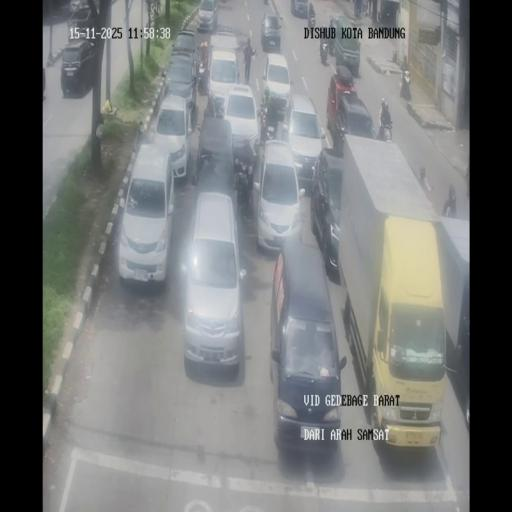3: (337, 138, 462, 448), (66, 3, 95, 40), (380, 1, 400, 26)
car: (268, 237, 342, 451), (181, 189, 246, 370), (118, 142, 175, 286), (313, 148, 344, 278), (283, 94, 324, 186), (220, 83, 260, 161), (331, 88, 376, 154), (162, 53, 198, 122), (61, 38, 97, 98), (261, 51, 292, 118), (208, 32, 241, 90), (332, 15, 361, 76), (260, 12, 282, 50), (172, 30, 198, 62), (197, 0, 218, 32), (292, 0, 308, 18)
truck: (233, 158, 253, 210), (197, 52, 210, 96), (442, 184, 456, 217), (400, 70, 412, 100), (204, 92, 216, 119), (319, 38, 329, 66), (464, 155, 470, 198), (328, 32, 336, 56), (308, 9, 316, 31), (384, 124, 392, 142), (378, 124, 385, 140)
